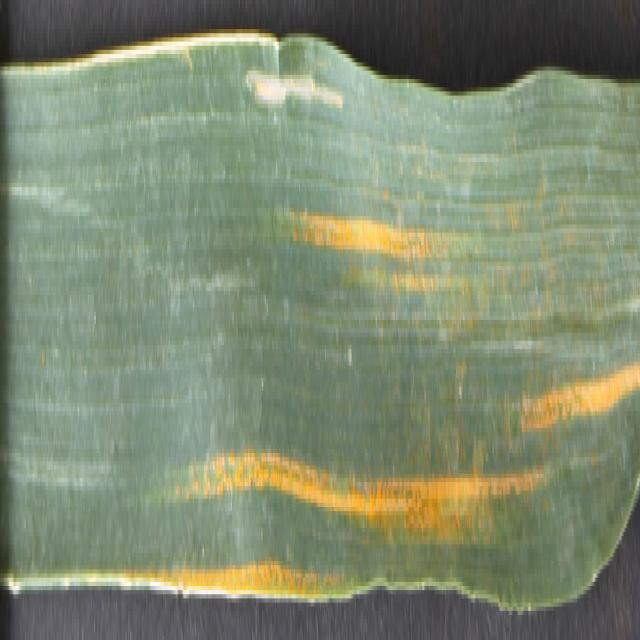leaf rust: (170, 403, 498, 582), (284, 133, 444, 328), (516, 287, 640, 486)
